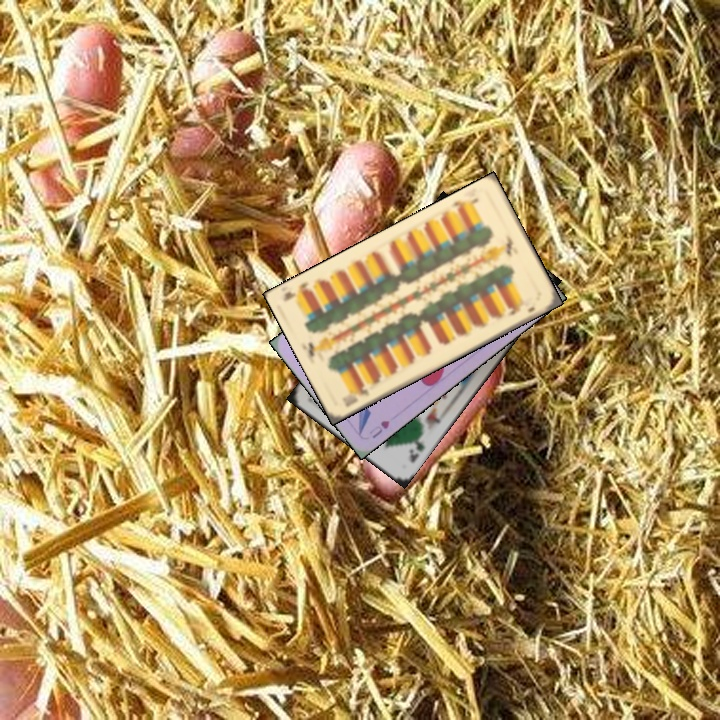E10: (341, 381, 372, 409), (447, 194, 481, 213)
GK: (405, 431, 427, 465)
HU: (365, 416, 392, 441)
